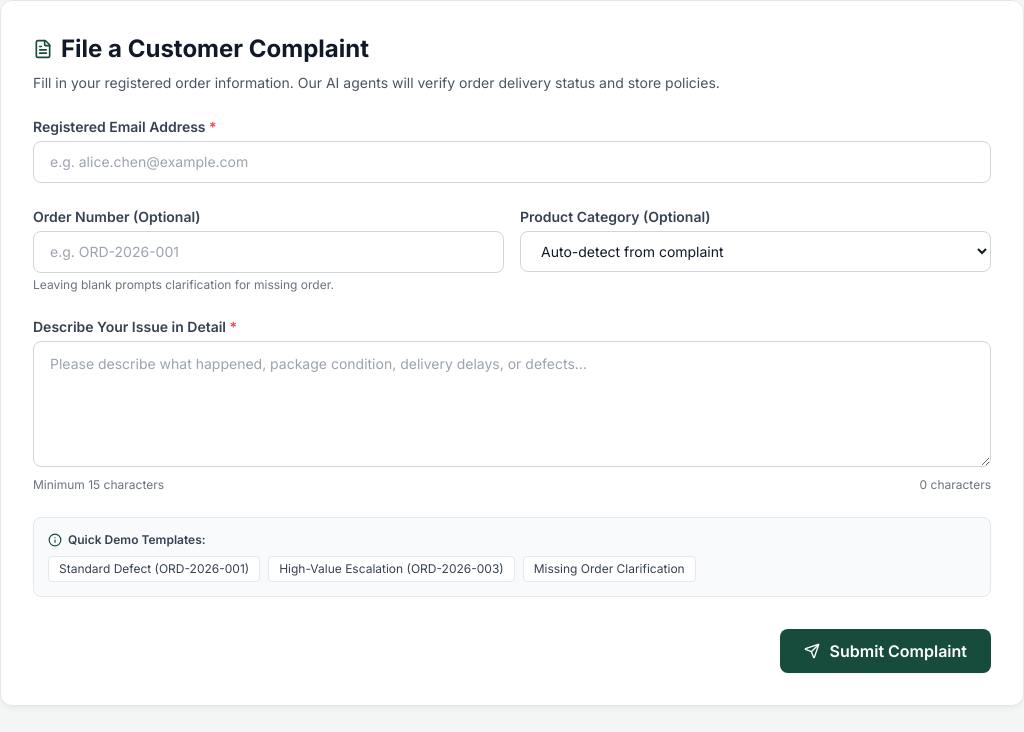
Test: Customer Portal Components › CustomerComplaintForm › displays error banner when workflow submission fails
Step 1. Type "alice.chen@example.com" into the field labelled "Registered Email Address *" → (512, 162), box [33, 141, 991, 183]
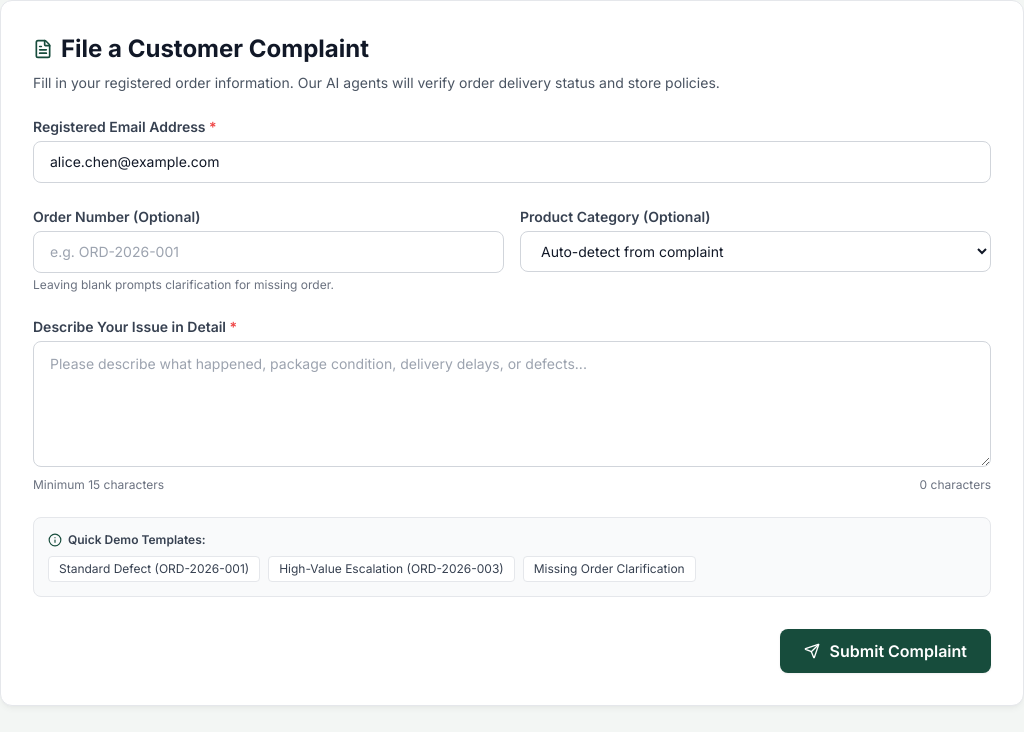
Step 2. Replace the text in the text box labelled "Describe Your Issue in Detail *" with "Package was never received at the address." → (512, 404), box [33, 341, 991, 467]
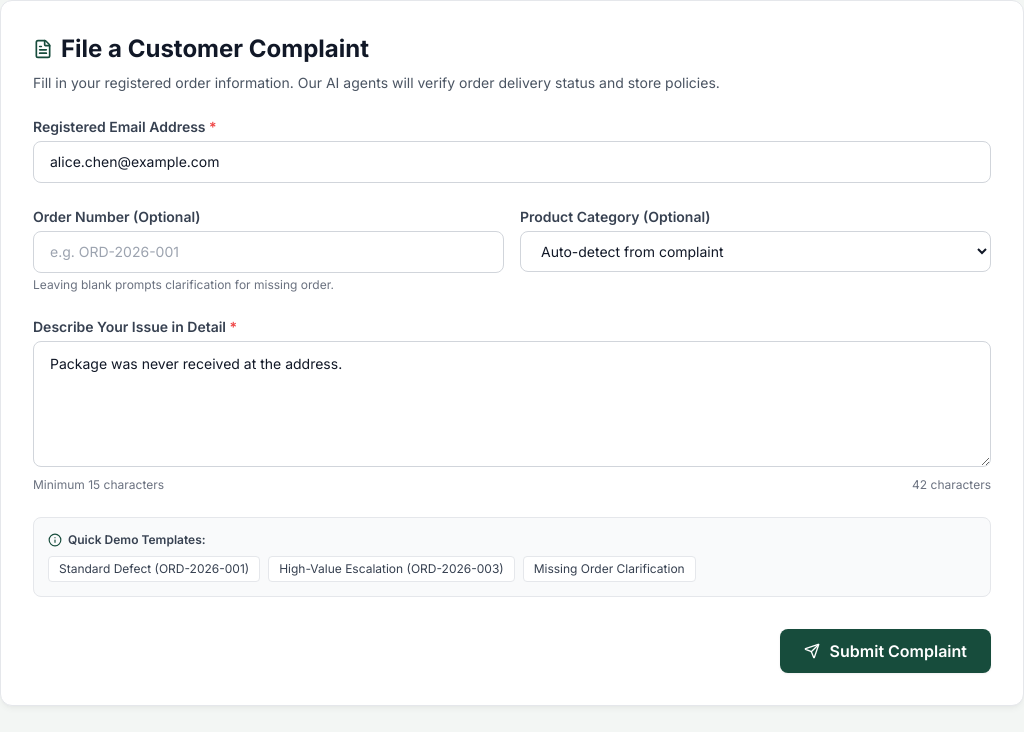
Step 3. Click the button "Submit Complaint" → (885, 651), box [780, 629, 991, 673]
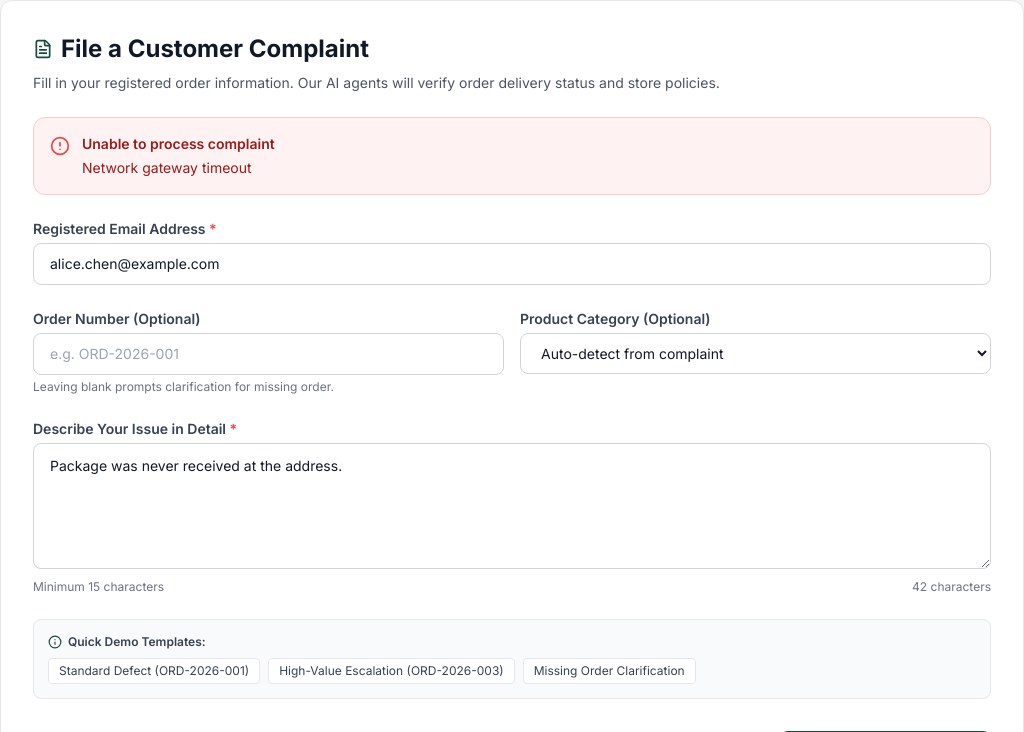
expect the text "Network gateway timeout" is shown: met, box [82, 158, 275, 178]
